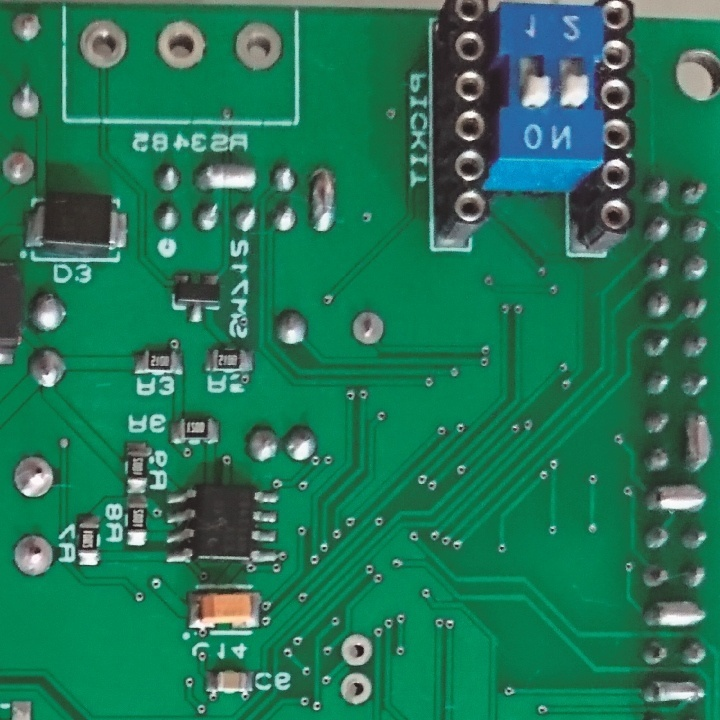F: (78, 15, 130, 72), (155, 19, 207, 72), (233, 21, 283, 72), (10, 452, 57, 502), (10, 532, 55, 580), (1, 146, 40, 190), (9, 80, 47, 123), (350, 307, 388, 349), (339, 668, 379, 706), (9, 9, 44, 46), (339, 631, 374, 668)
P: (639, 595, 709, 633), (304, 164, 339, 236), (191, 157, 261, 192), (644, 482, 710, 519), (681, 408, 713, 475), (638, 675, 707, 705)
